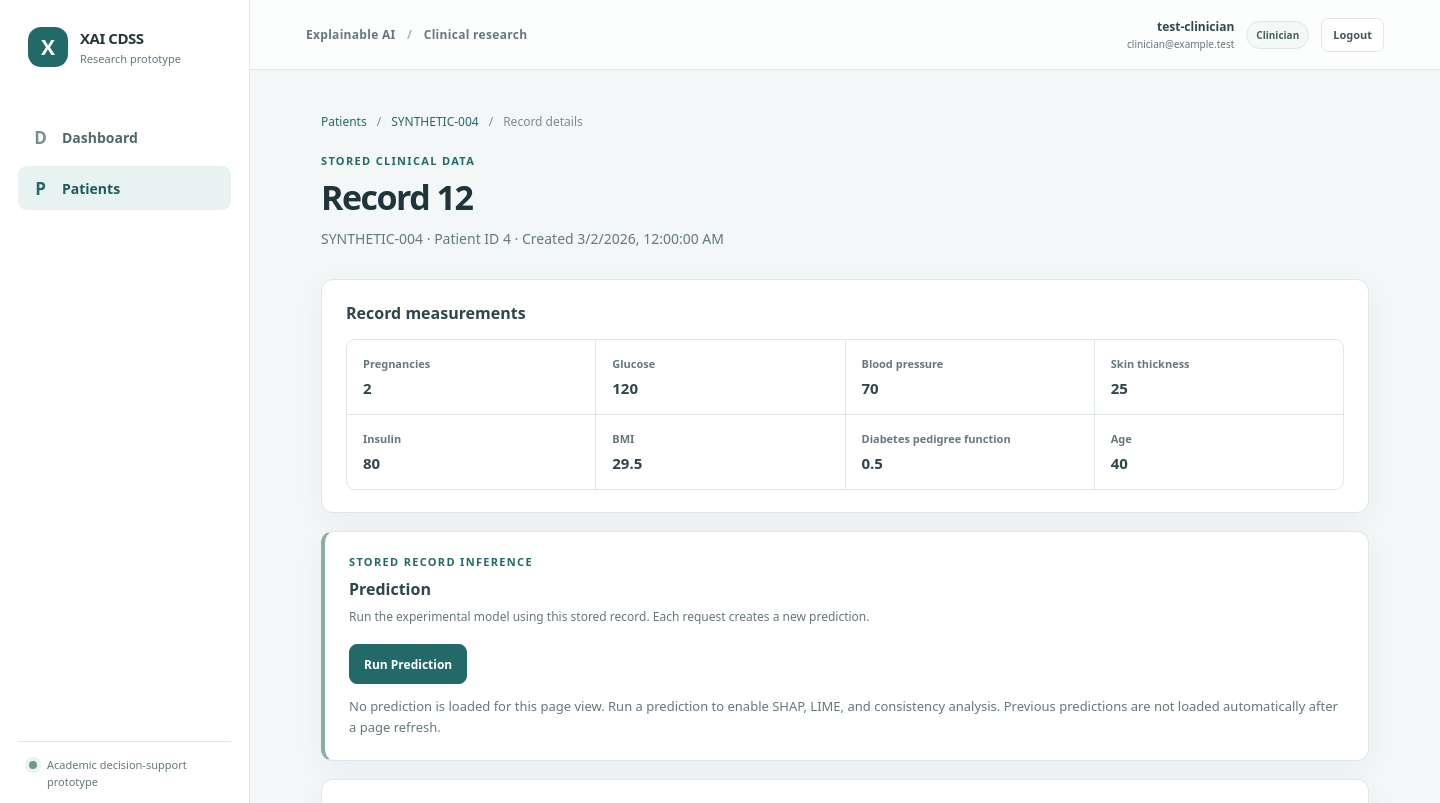
Test case: record prediction UI › posts to the matching record endpoint with the centralized bearer token
The image size is (1440, 803).
Click the button "Run Prediction" at coordinates (408, 664), box [349,644,467,684]
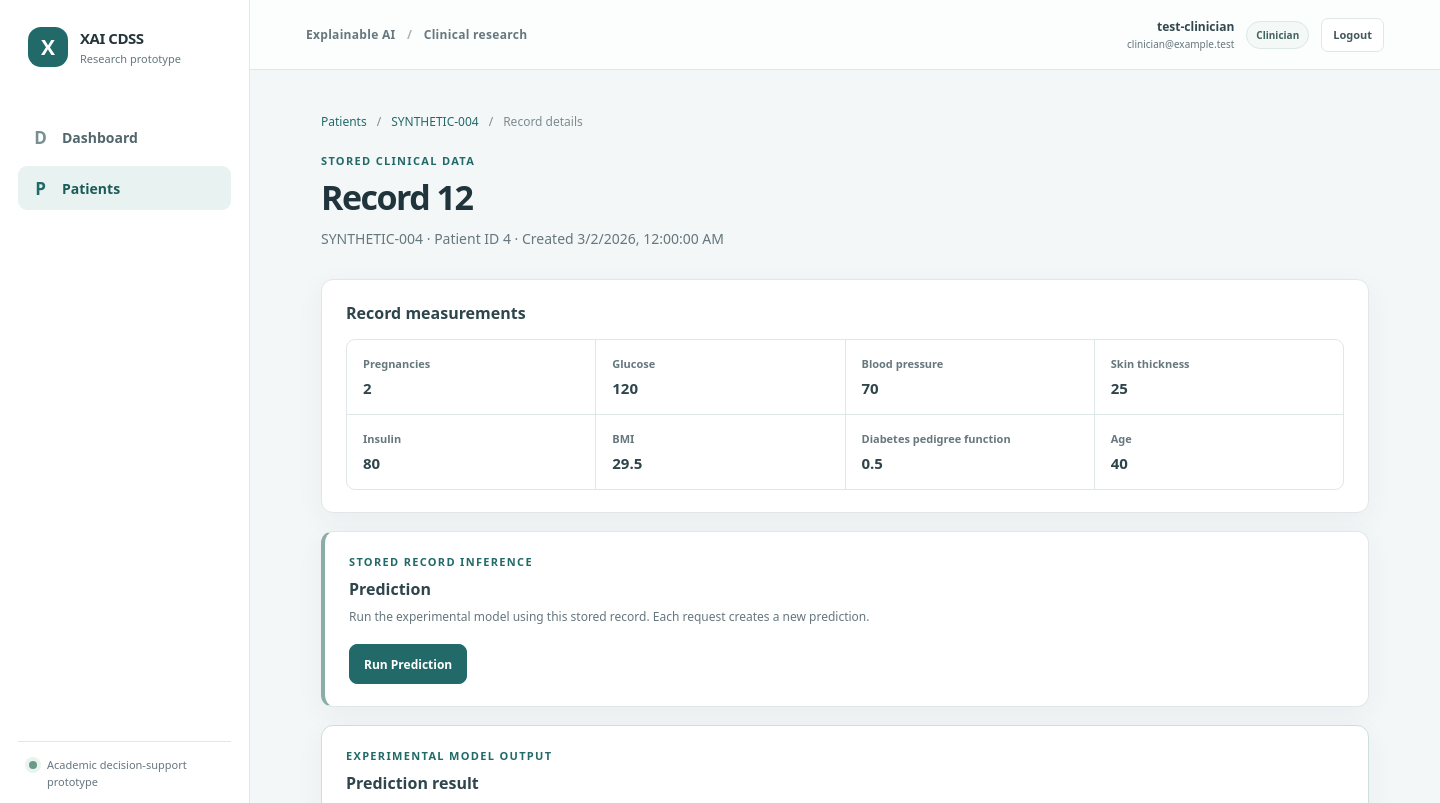
Result: the heading "Prediction result" is shown at [346,772,479,794]
